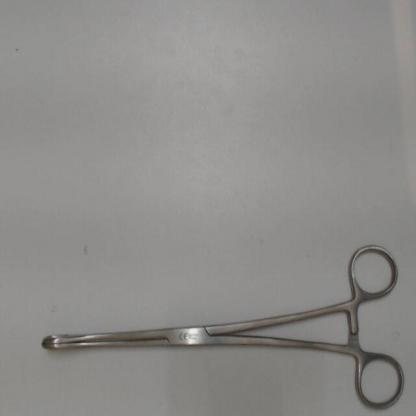Sponge Forceps: (32, 236, 412, 414)
